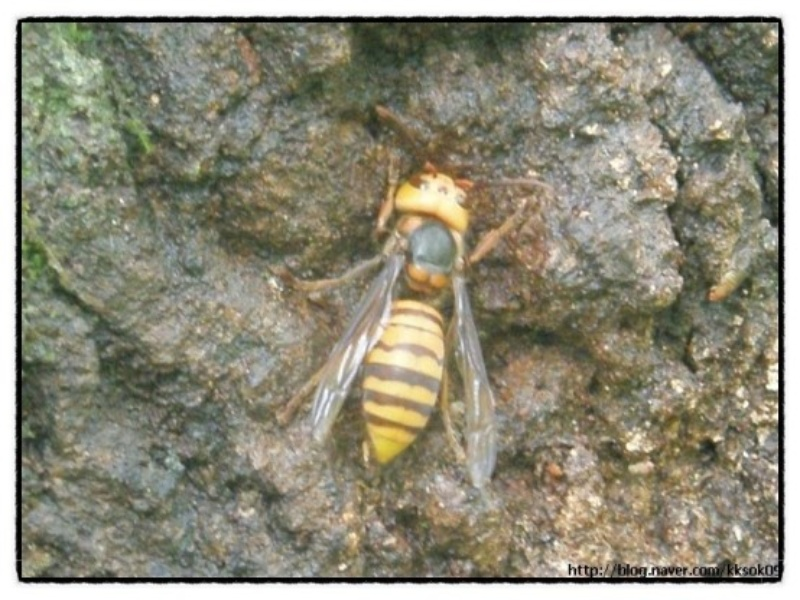asian_giant_hornet: (309, 135, 552, 470)
